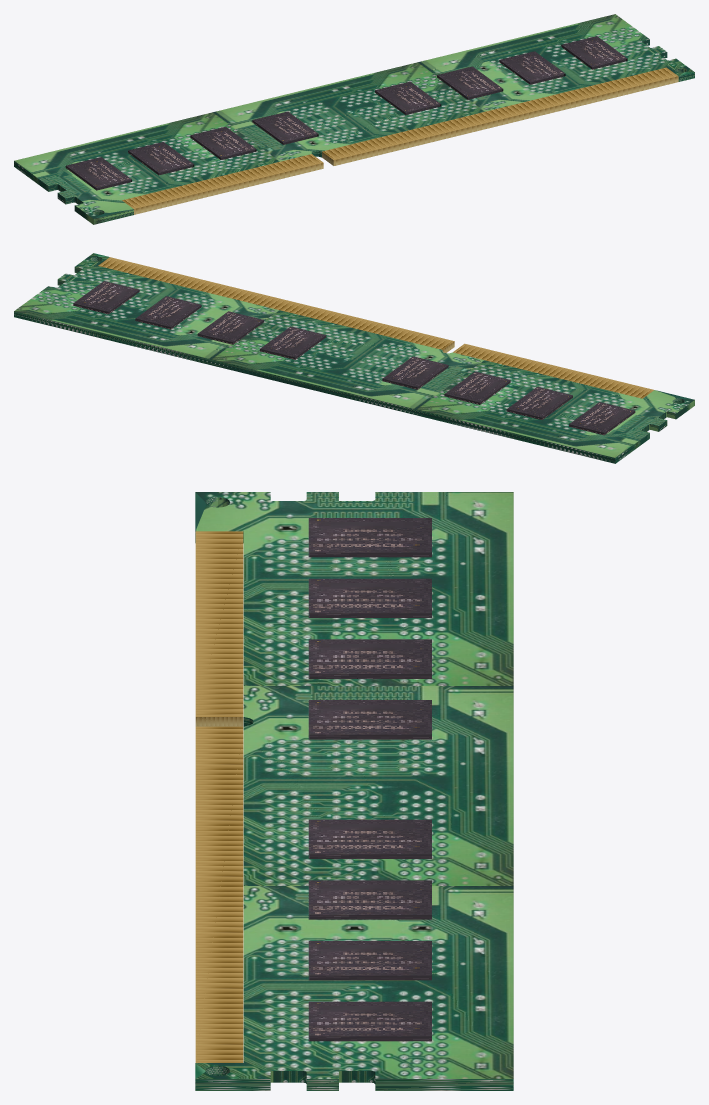
File: ram.glb
The picture shows the model from 3 angles, top to bottom: view 1: azimuth 30°, elevation 25°; view 2: azimuth 150°, elevation 25°; view 3: azimuth 270°, elevation 25°; orthographic projection. The views are drawn at different scales.
Visible parts, largest first — view 1: Cube, Cube.002, Cube.003, Cube.001; view 2: Cube, Cube.002, Cube.001, Cube.003; view 3: Cube, Cube.002, Cube.001, Cube.003.
Boxes of the visible parts, left/top/right/bottom form: Cube: left=14, top=14, right=694, bottom=224; Cube.002: left=122, top=67, right=678, bottom=214; Cube.003: left=65, top=111, right=318, bottom=190; Cube.001: left=375, top=36, right=627, bottom=114; Cube: left=14, top=253, right=694, bottom=463; Cube.002: left=98, top=257, right=653, bottom=398; Cube.001: left=73, top=281, right=326, bottom=359; Cube.003: left=382, top=356, right=635, bottom=435; Cube: left=195, top=492, right=513, bottom=1090; Cube.002: left=195, top=531, right=243, bottom=1062; Cube.001: left=308, top=819, right=431, bottom=1041; Cube.003: left=308, top=518, right=431, bottom=739.
Size of the model in its own units: 2.19 by 0.035 by 0.5022.
Materials: 3 (3 with a texture image).
